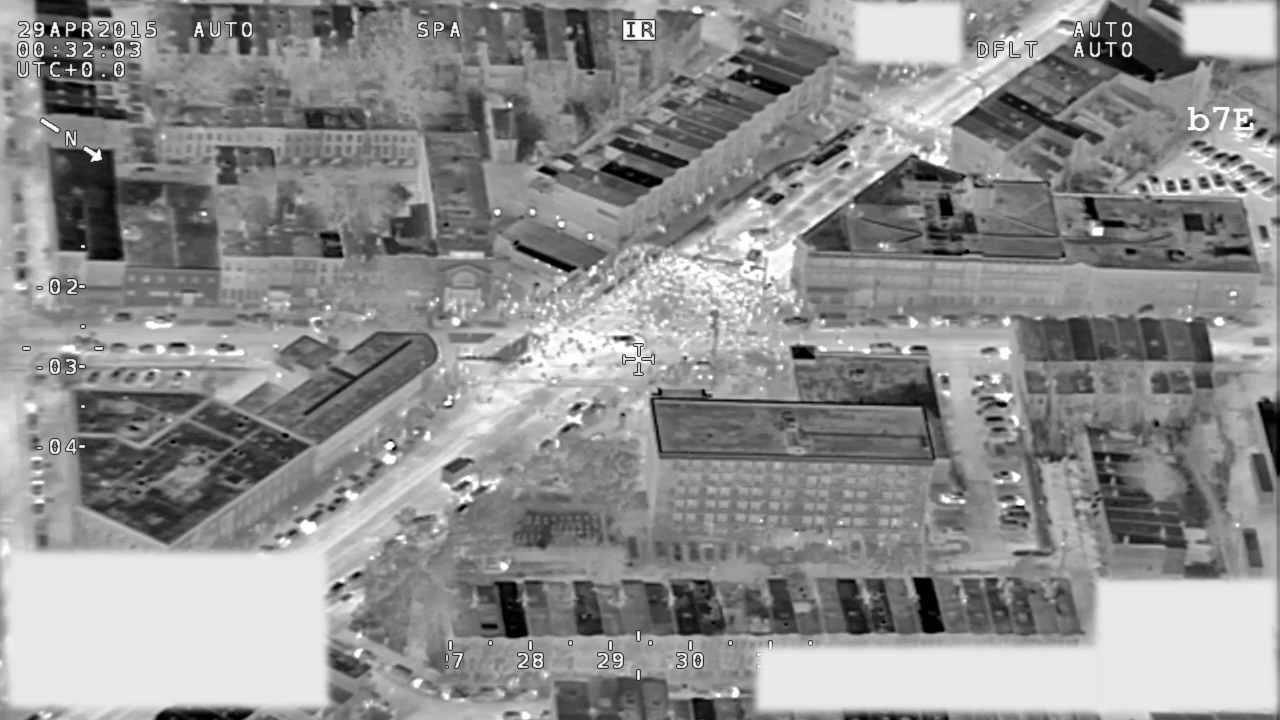vehicle: (806, 142, 851, 181), (441, 455, 475, 488), (298, 509, 328, 537), (350, 647, 385, 669), (815, 310, 853, 330), (362, 461, 390, 486), (745, 182, 774, 206), (971, 386, 1016, 401), (740, 248, 765, 274), (983, 414, 1021, 431), (413, 675, 441, 698), (737, 228, 772, 246), (143, 313, 178, 331), (781, 161, 807, 185), (1248, 126, 1272, 152), (342, 482, 368, 506), (761, 196, 787, 219), (976, 404, 1015, 419), (324, 498, 348, 522), (884, 312, 925, 326), (1217, 153, 1244, 174), (165, 339, 197, 356), (1256, 222, 1274, 252), (1206, 150, 1230, 172), (386, 445, 410, 467), (440, 688, 473, 704), (980, 395, 1020, 408), (998, 24, 1025, 43), (387, 662, 415, 680), (168, 368, 189, 391), (566, 397, 589, 418), (34, 521, 49, 553), (1054, 17, 1079, 36), (607, 335, 636, 351), (836, 160, 858, 181), (981, 346, 1014, 360), (274, 528, 301, 545), (1191, 146, 1215, 165), (977, 374, 1015, 386), (938, 490, 968, 505), (996, 492, 1028, 506), (867, 341, 904, 353), (937, 372, 954, 398), (141, 368, 163, 388), (330, 578, 353, 597), (24, 404, 40, 431), (930, 316, 966, 328), (1000, 509, 1033, 522), (350, 564, 369, 586), (13, 265, 29, 291), (992, 471, 1024, 484), (1244, 170, 1267, 188), (1187, 138, 1212, 154), (107, 365, 126, 386), (1233, 163, 1255, 181), (1256, 174, 1274, 196), (27, 478, 46, 498), (105, 311, 130, 326), (137, 343, 165, 356), (4, 134, 18, 160), (784, 183, 803, 202), (1003, 518, 1030, 531), (989, 428, 1016, 441), (783, 316, 812, 328), (122, 369, 139, 389), (29, 455, 45, 476), (1196, 174, 1212, 195), (1213, 317, 1246, 327), (31, 495, 45, 517), (1, 73, 15, 95), (1230, 178, 1247, 196), (214, 342, 237, 355), (1148, 176, 1162, 196), (1179, 176, 1192, 196), (976, 315, 996, 328), (86, 370, 102, 386), (1266, 185, 1280, 203), (859, 319, 884, 329), (1164, 176, 1177, 195), (109, 341, 131, 352), (15, 245, 27, 265), (1136, 181, 1150, 198), (1212, 172, 1223, 192), (4, 94, 14, 115)
